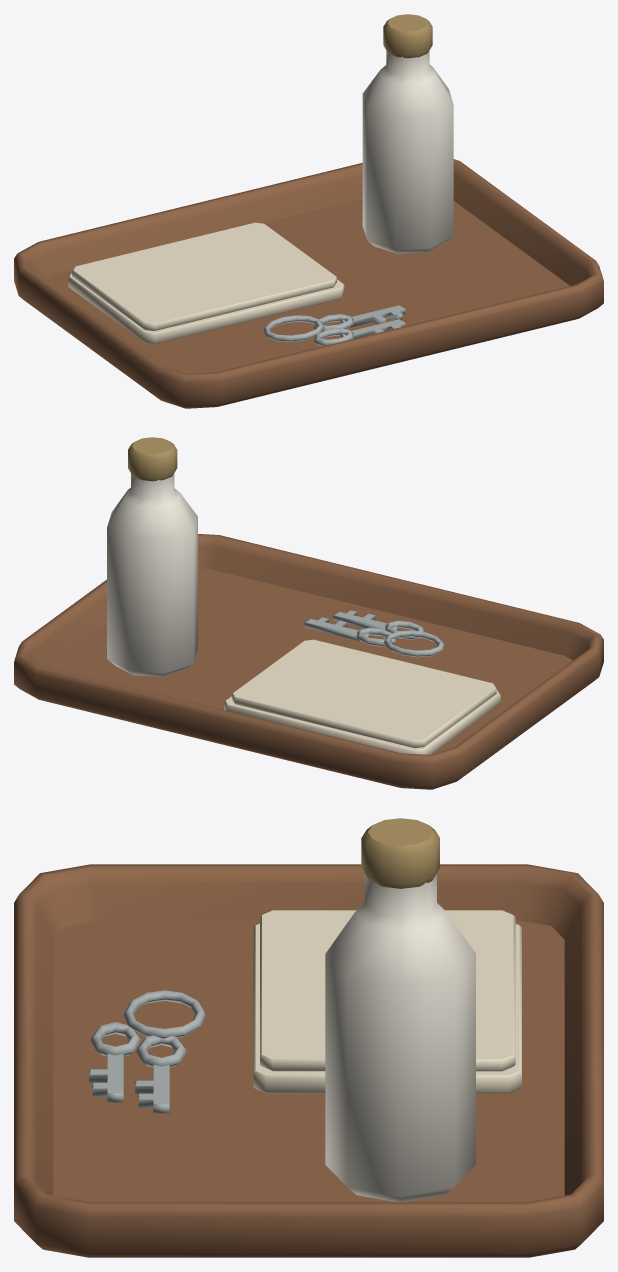
Rendered from original-entry-tray.glb.
The picture shows the model from 3 angles, top to bottom: view 1: azimuth 30°, elevation 25°; view 2: azimuth 150°, elevation 25°; view 3: azimuth 270°, elevation 25°; orthographic projection. The views are drawn at different scales.
Visible parts, largest first — view 1: original-entry-tray; view 2: original-entry-tray; view 3: original-entry-tray.
Boxes of the visible parts, x1,y1,x2,y2 form: original-entry-tray: (14, 14, 603, 408); original-entry-tray: (14, 437, 603, 789); original-entry-tray: (14, 818, 603, 1257).
Size of the model in its own units: 0.25 by 0.12 by 0.18.
